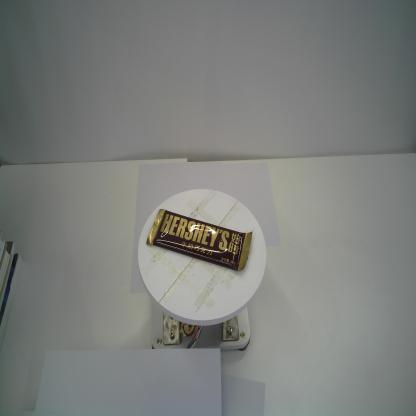Chocolate: (145, 208, 253, 272)
